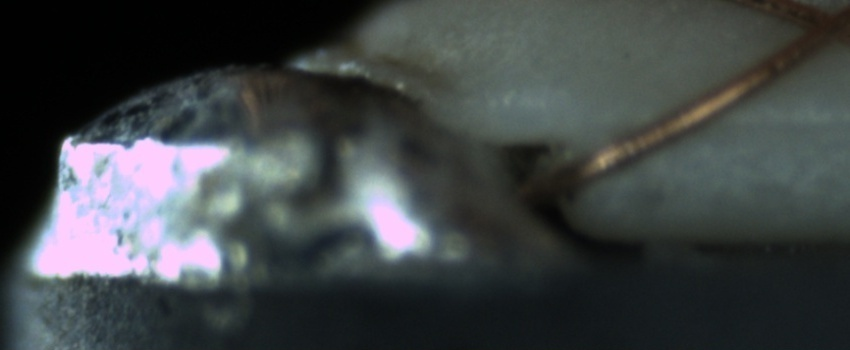CL: (780, 1, 848, 59)
DL: (696, 92, 850, 156)
